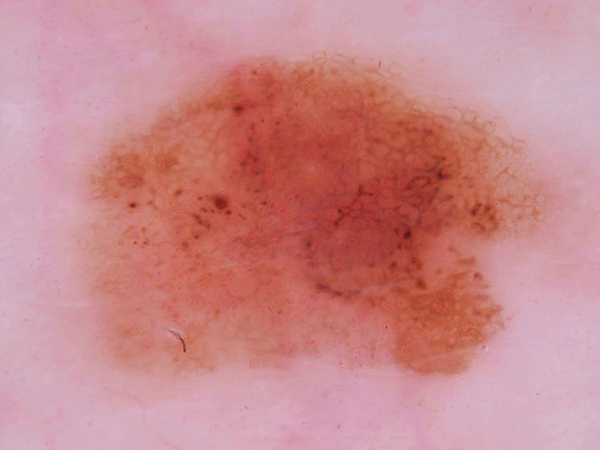Detected Lesion: (79, 51, 545, 393)
